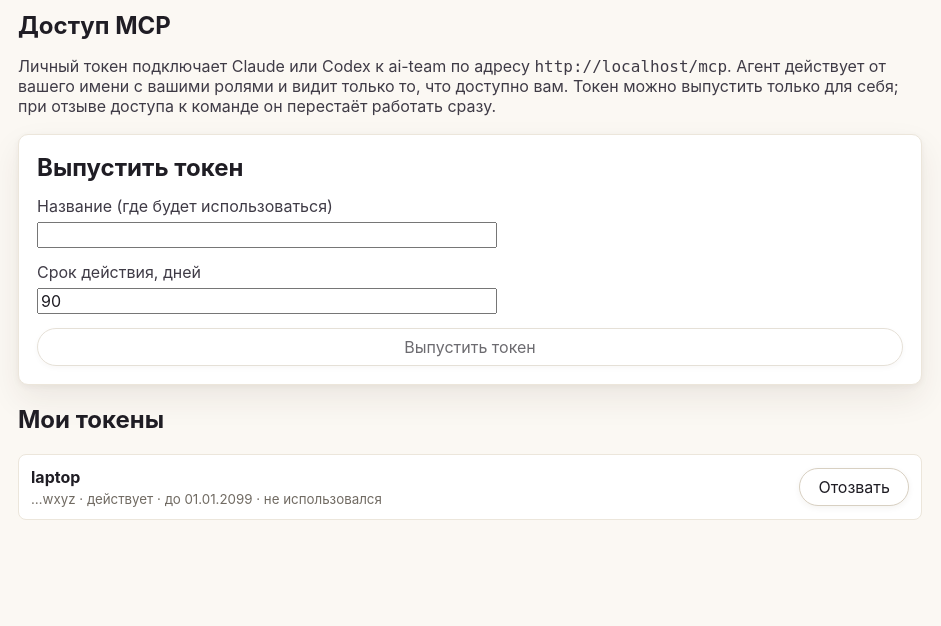
Test: McpAccess › revokes a token after confirmation using a button named after the token
The width and height of the screenshot is (941, 626).
Click the button with aria-label "Отозвать токен «laptop»" at point(854, 487), box x1=799 y1=468 x2=909 y2=506
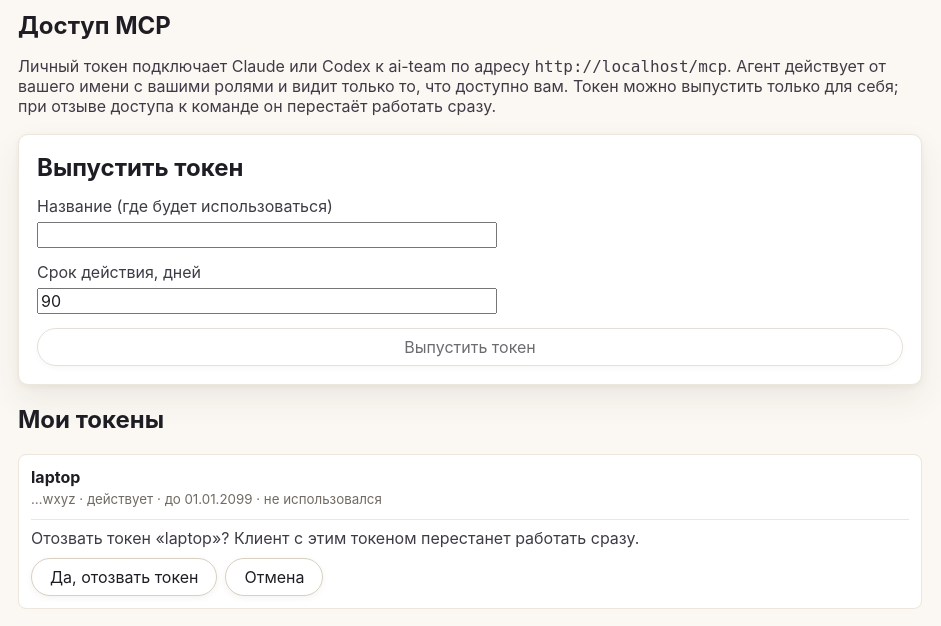
Click the button "Да, отозвать токен" at point(124, 577), box x1=31 y1=558 x2=218 y2=596
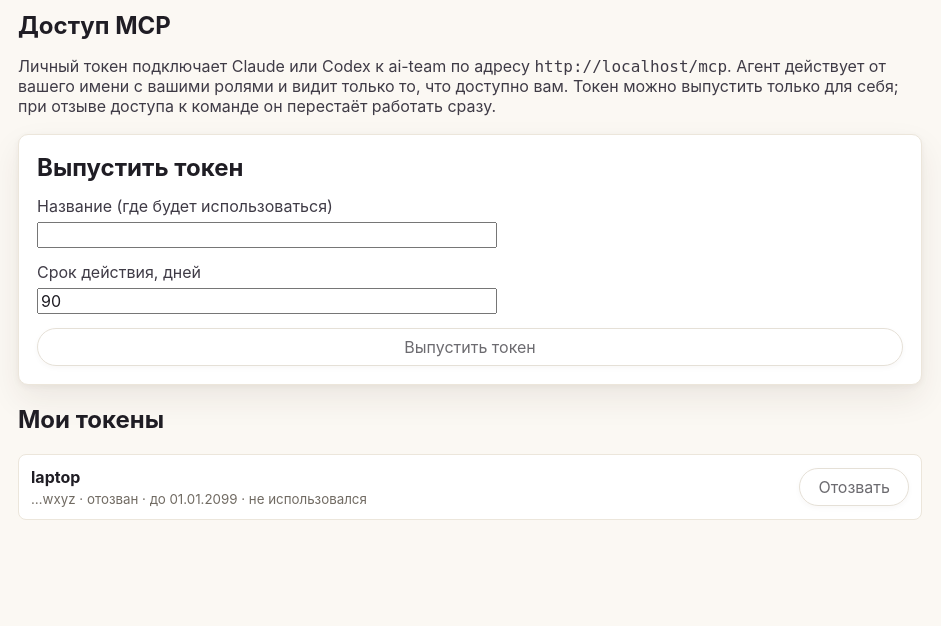
Expected: the button with aria-label "Отозвать токен «laptop»" is disabled, x1=799 y1=468 x2=909 y2=506
Expected: the text "…wxyz · отозван · до 01.01.2099 · не использовался" is shown, x1=31 y1=491 x2=367 y2=507
